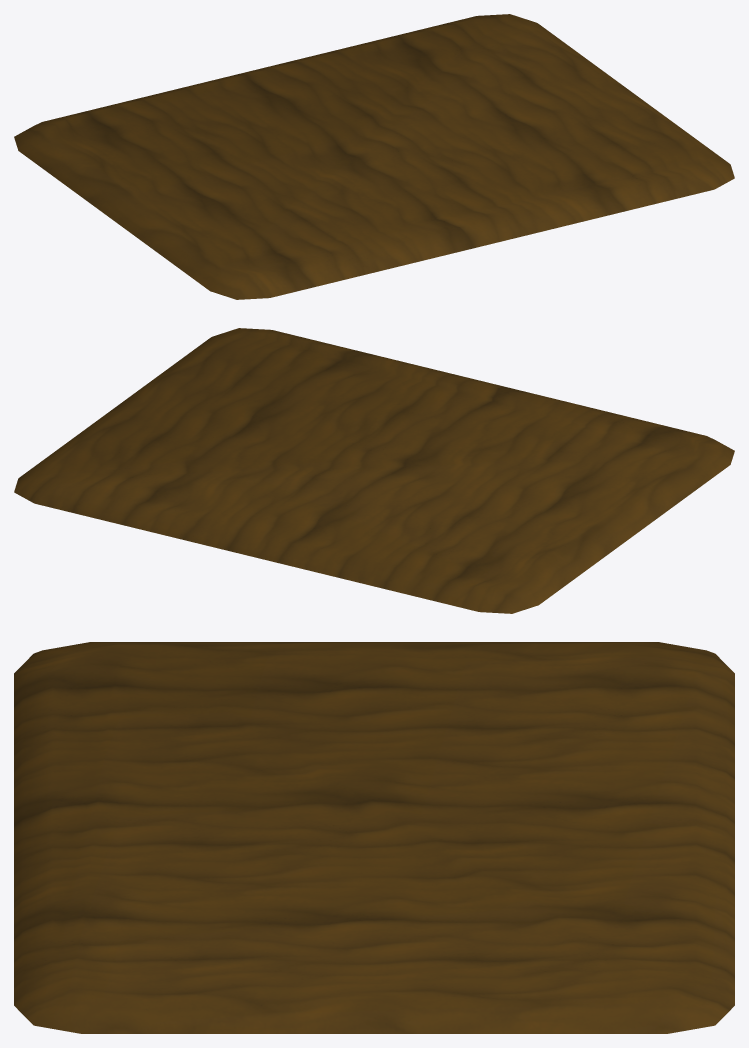
Rendered from toprak2.fbx.
3 renders of one model, top to bottom at view 1: azimuth 30°, elevation 25°; view 2: azimuth 150°, elevation 25°; view 3: azimuth 270°, elevation 25°, orthographic. The views are drawn at different scales.
Parts seen in each view (by area): view 1: toprak2; view 2: toprak2; view 3: toprak2.
Part boxes in pixels (x1,y1,x2,y2): toprak2: (14,14,734,299); toprak2: (14,328,734,613); toprak2: (14,642,734,1033).
Bounding box in the file's own units: 395 × 8.16 × 310.
